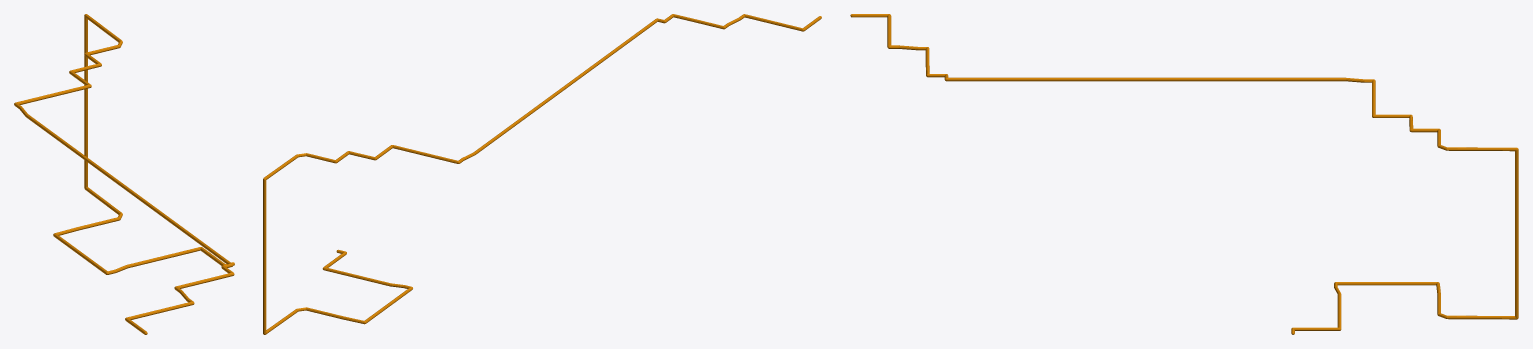
The picture shows the model from 3 angles, left to right: view 1: azimuth 30°, elevation 25°; view 2: azimuth 150°, elevation 25°; view 3: azimuth 270°, elevation 25°; orthographic projection. The views are drawn at different scales.
Bounding box in the file's own units: 1920 × 1020 × 3598.
